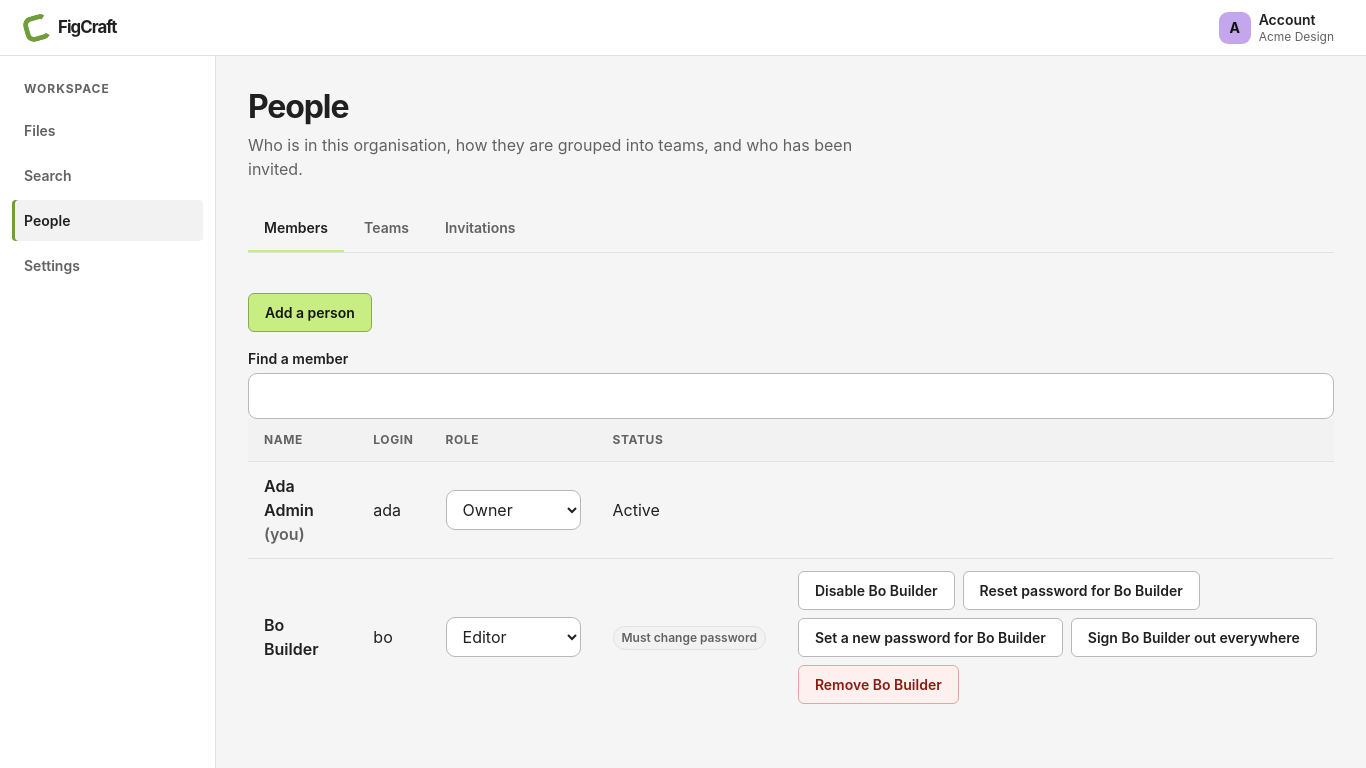
Scenario: temporary passwords set by an administrator › types a temporary password for someone and shows a refusal
The image size is (1366, 768).
Click the button "Set a new password for Bo Builder": click(930, 637) [798, 618, 1063, 657]
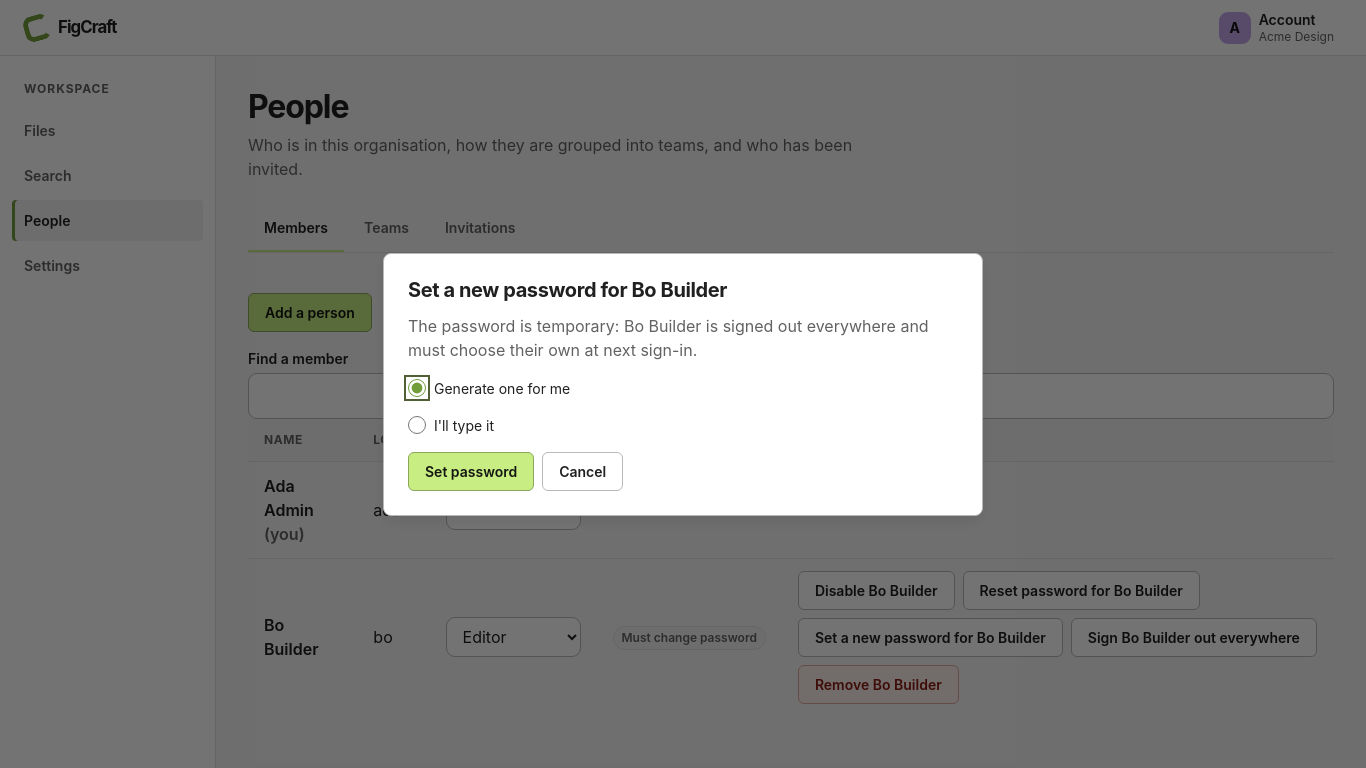
Click the radio button with test id "setpw-typed": click(417, 425) [408, 416, 426, 434]
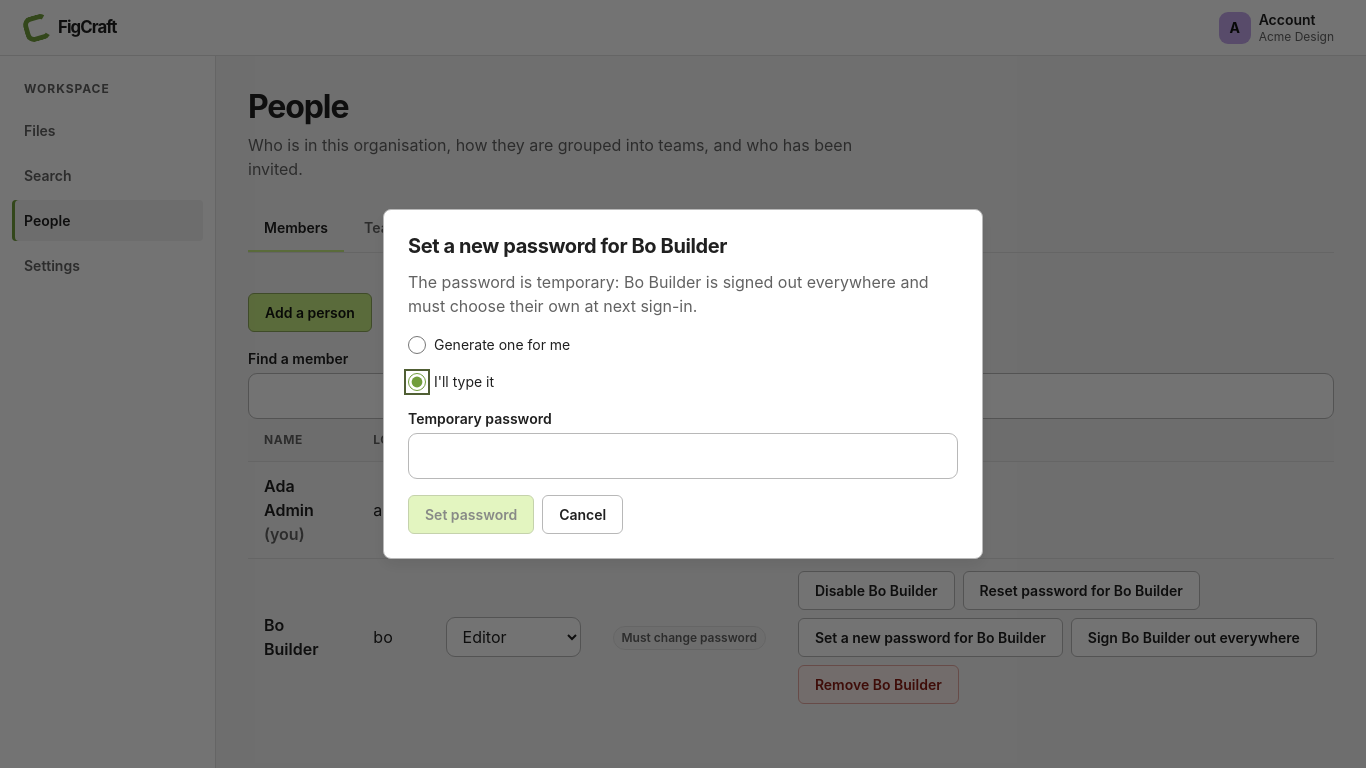
In the password field with test id "setpw-password": (683, 456) [408, 433, 958, 479], type "typed-temp-pass"
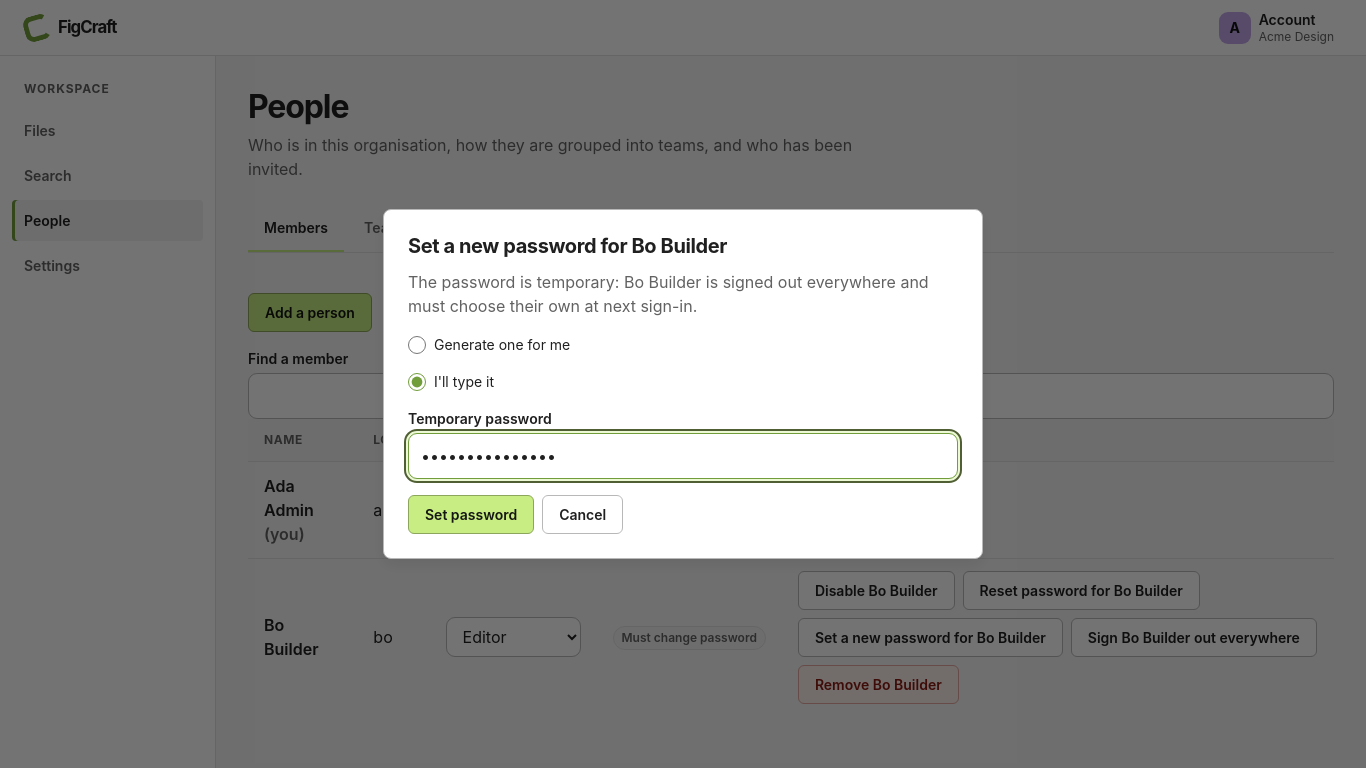
Click the button with test id "setpw-submit": click(471, 514) [408, 495, 534, 534]
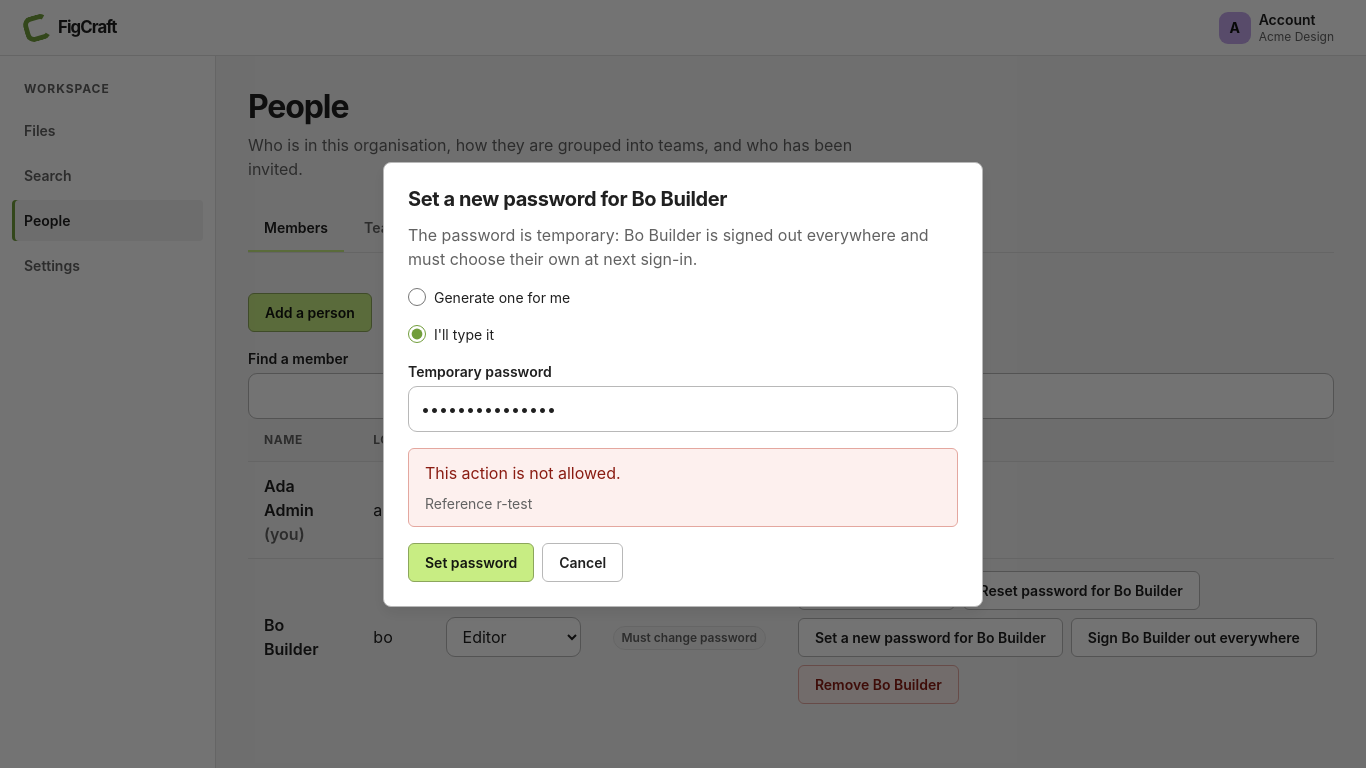
Expected: the dialog is shown, [383, 162, 983, 606]
Expected: the element with test id "setpw-error" shows "This action is not allowed.", [425, 462, 621, 482]
